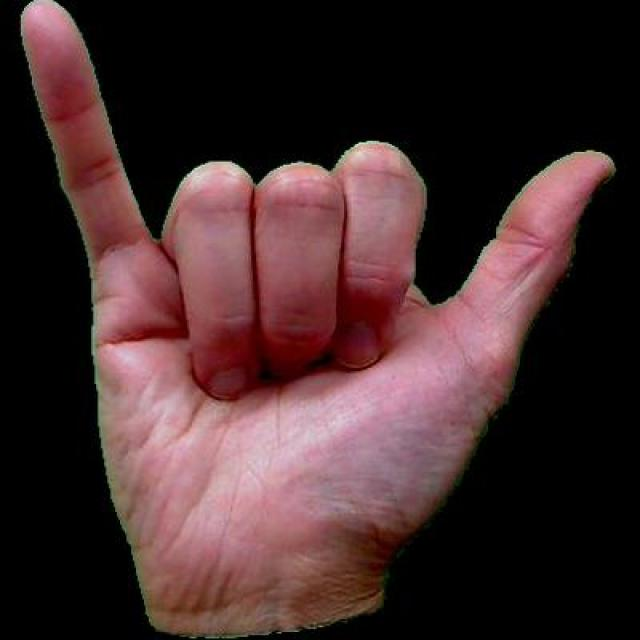y: (0, 0, 624, 637)
